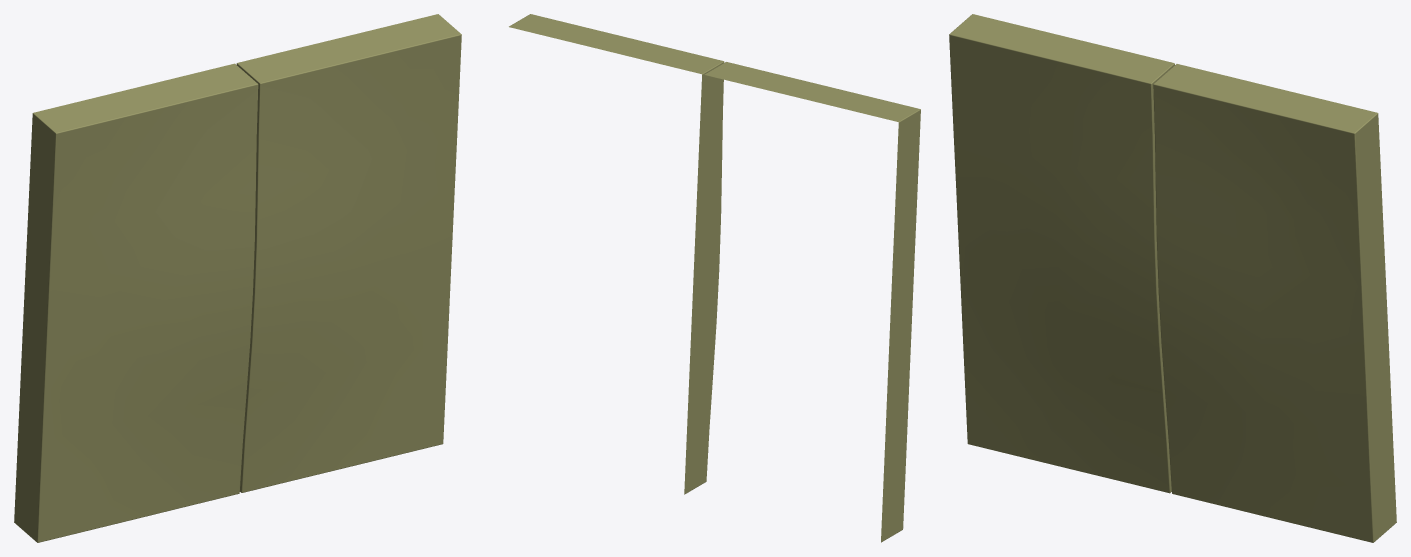
The model's file is bronze.glb.
3 views of the same model, side by side, from view 1: azimuth 30°, elevation 25°; view 2: azimuth 150°, elevation 25°; view 3: azimuth 330°, elevation 25° (orthographic). The views are drawn at different scales.
Visible parts, largest first — view 1: Object011; view 2: Object011; view 3: Object011.
Part boxes in pixels (<box>): Object011: <box>14,14,461,542</box>; Object011: <box>509,14,920,542</box>; Object011: <box>949,14,1396,542</box>.
Bounding box in the file's own units: 0.0528 × 0.053 × 0.00946.
